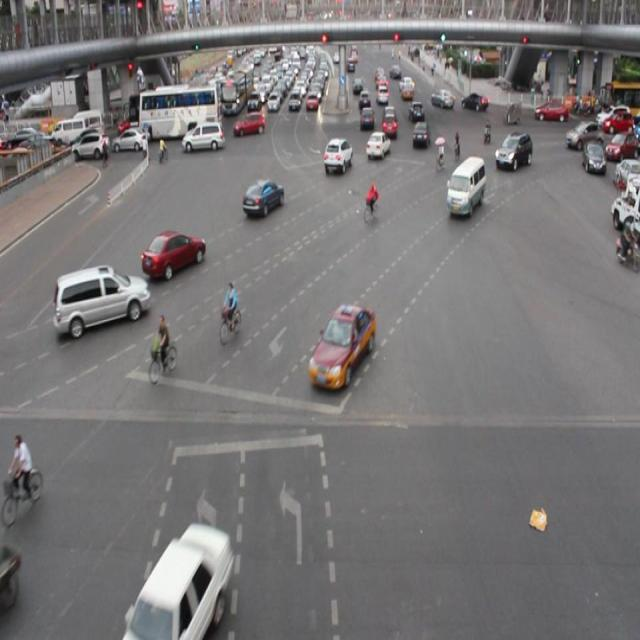car: (124, 526, 233, 640), (309, 303, 375, 390), (141, 226, 205, 280), (241, 177, 284, 219), (493, 132, 532, 173), (322, 138, 353, 176), (365, 129, 389, 161), (410, 120, 429, 148)
truck: (54, 262, 150, 333), (444, 155, 486, 217)
